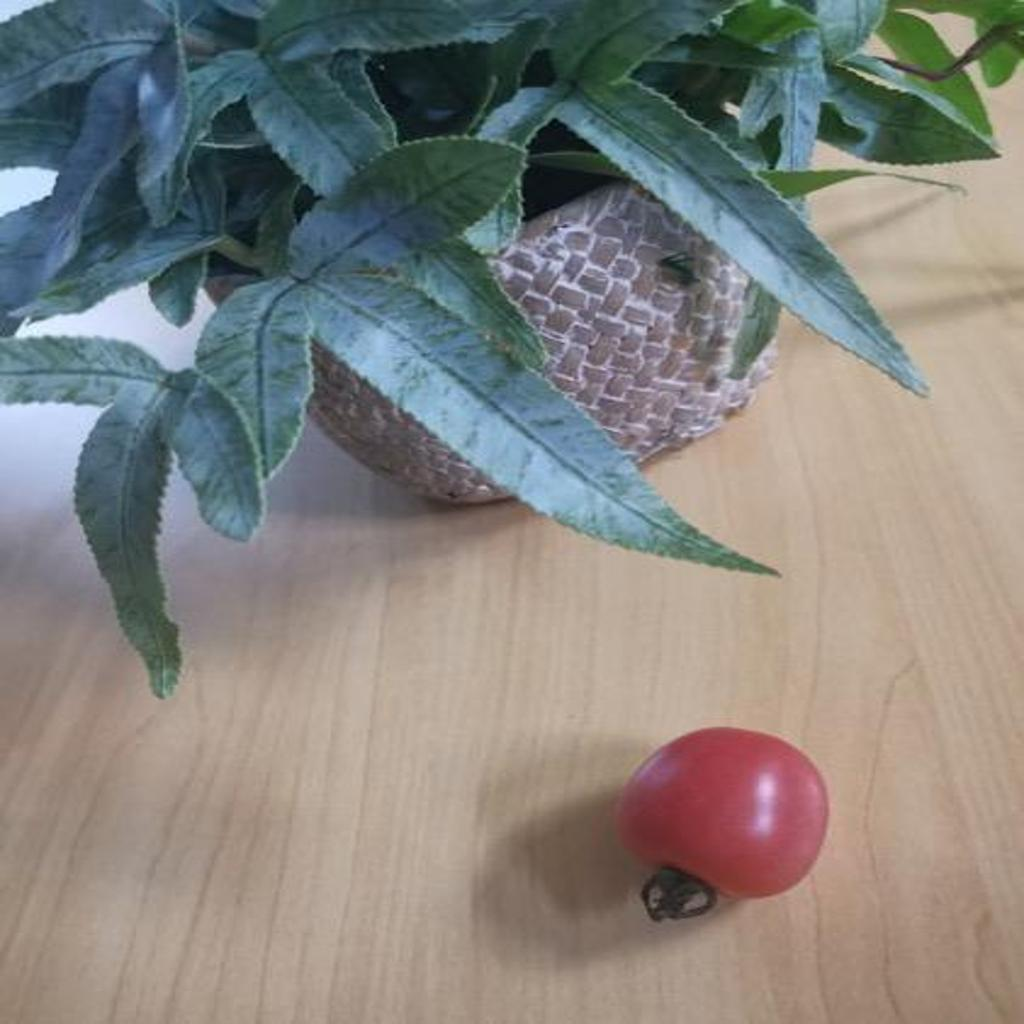tomato: (626, 722, 824, 915)
